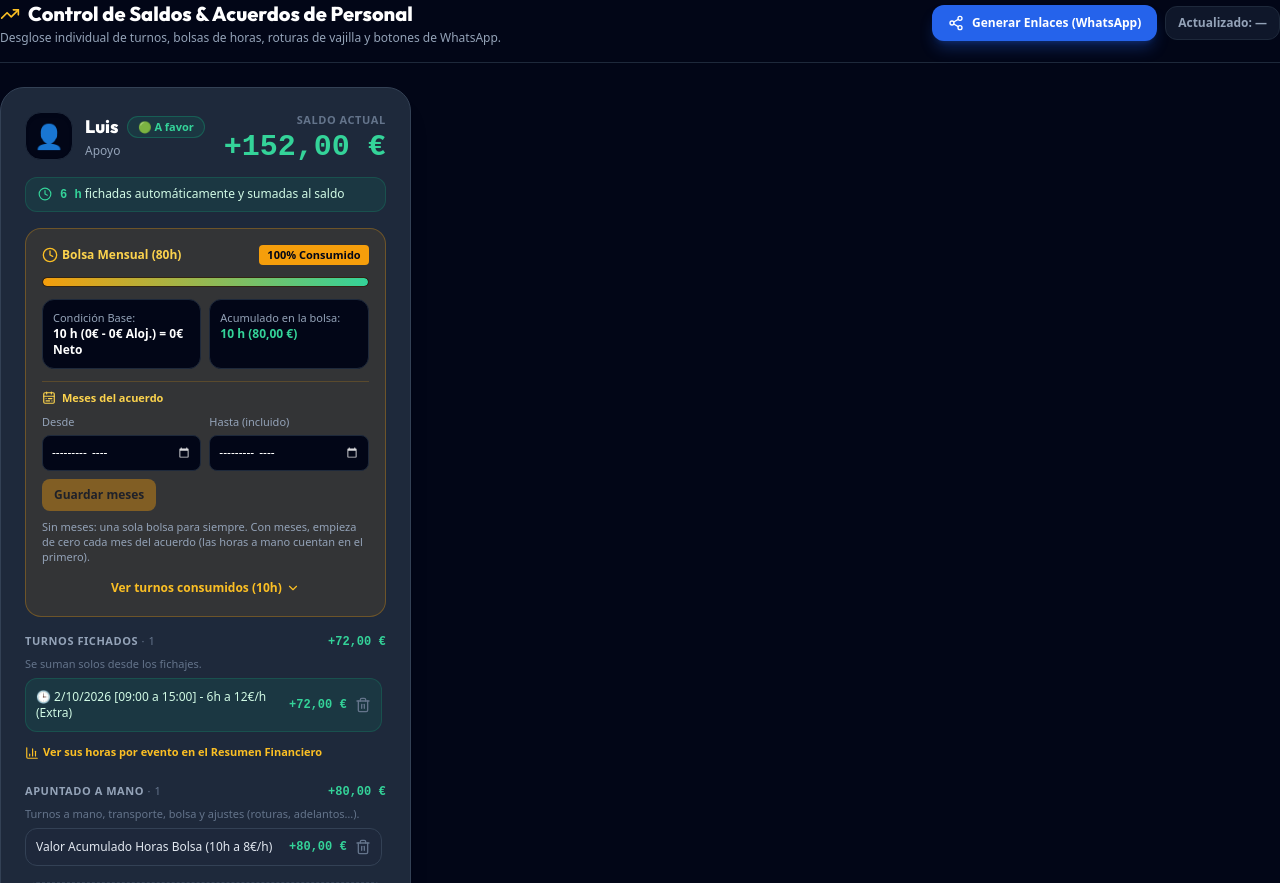
TeamBalancesTab — bolsa de horas por meses › guardar los meses del acuerdo manda el purseInfo completo con desde/hasta y avisa si el servidor aún no los guarda
Type "2026-09" into the field labelled "Desde" at (122, 452), box [42,434,201,470]
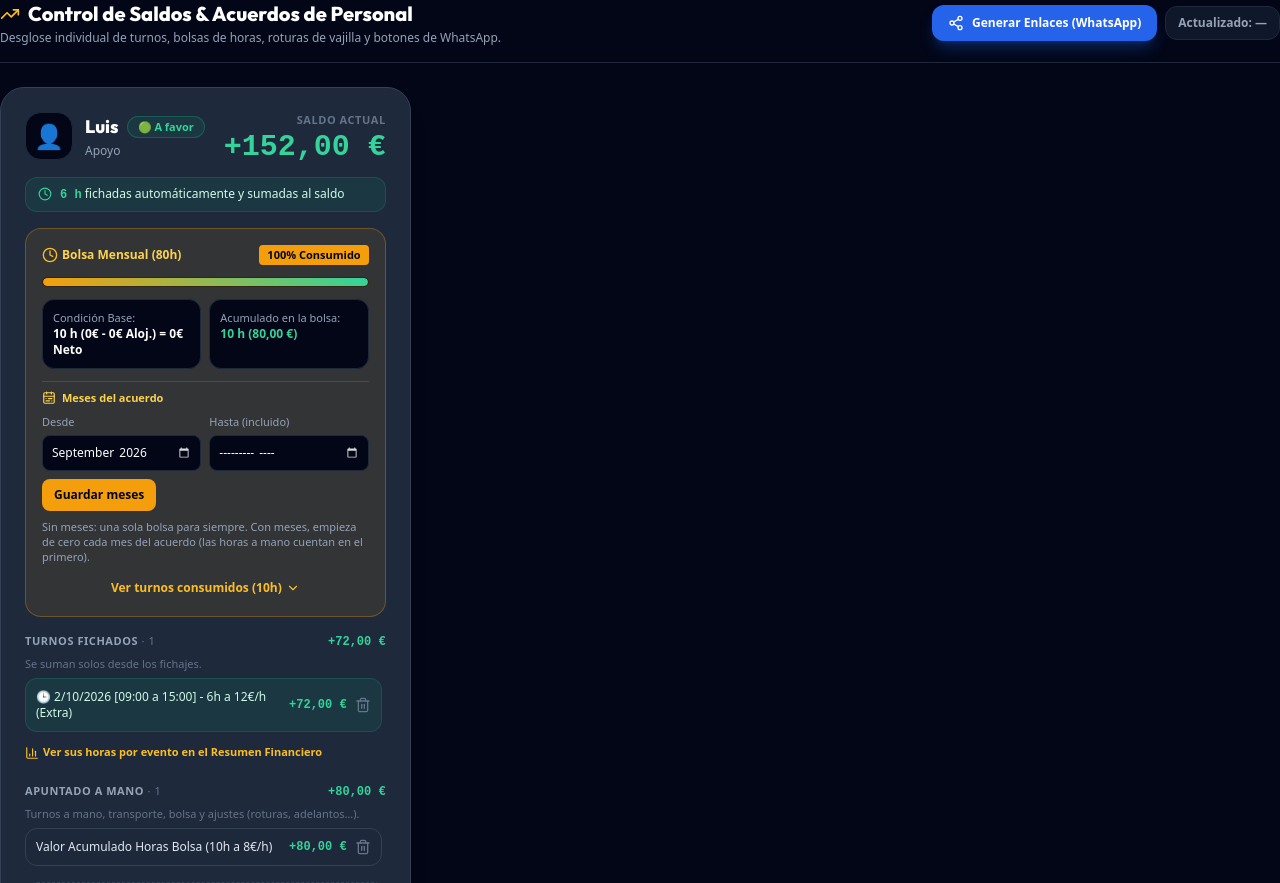
Type "2026-10" into the field labelled "Hasta (incluido)" at (289, 452), box [209,434,369,470]
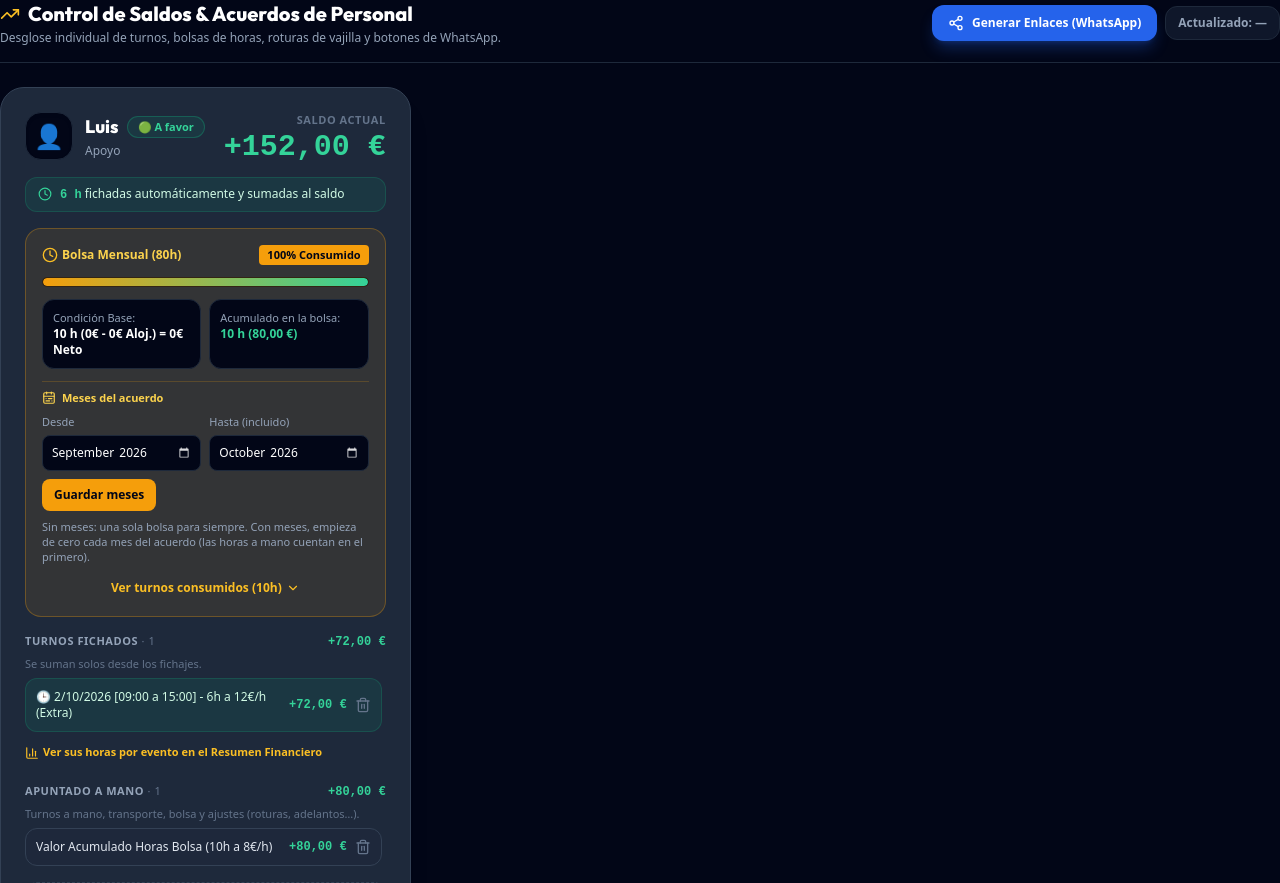
Click the button "Guardar meses" at (99, 494), box [42,478,156,510]
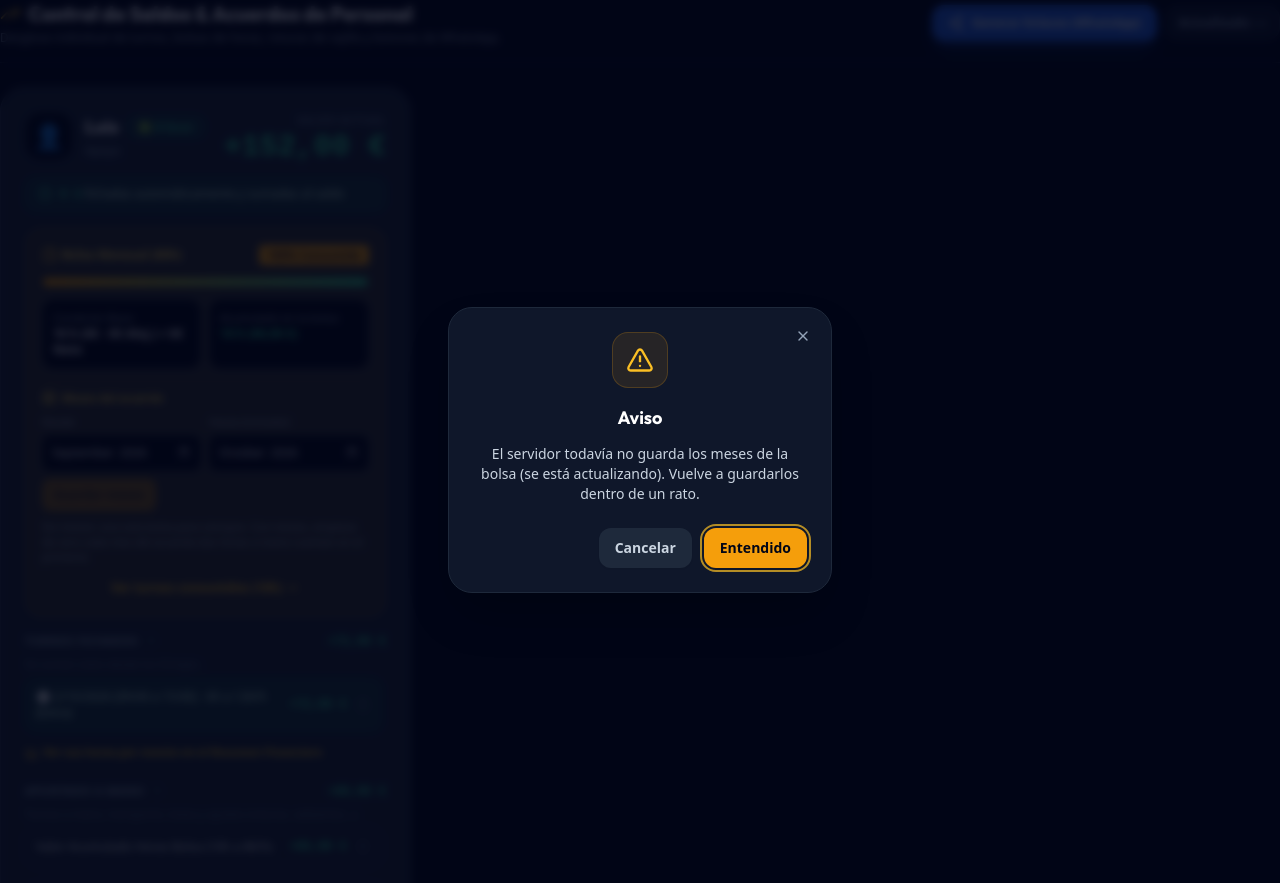
Expected: the text "El servidor todavía no guarda los meses" is shown, [481,444,799,503]
